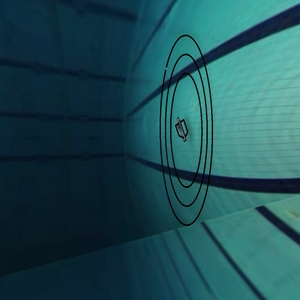circle: (140, 26, 228, 233)
submarine: (171, 112, 195, 144)
